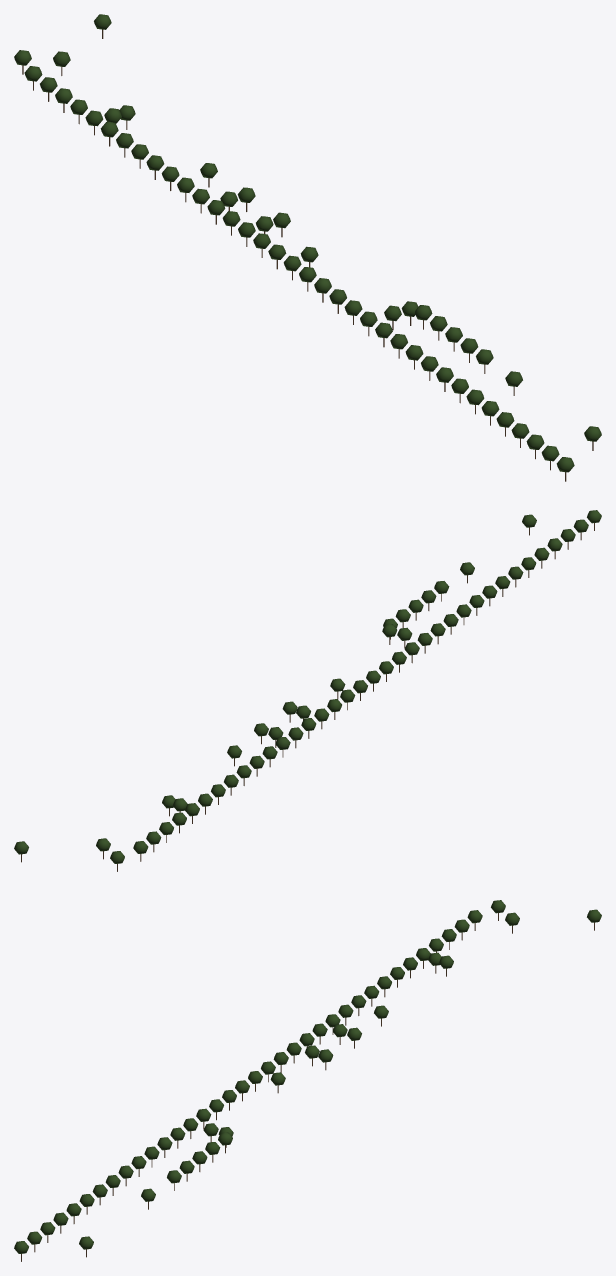
The model's file is props.glb.
3 views of the same model, one above another, from view 1: azimuth 30°, elevation 25°; view 2: azimuth 150°, elevation 25°; view 3: azimuth 330°, elevation 25° (orthographic). The views are drawn at different scales.
Visible parts, largest first — view 1: T_W3_N3_props; view 2: T_W3_N3_props; view 3: T_W3_N3_props.
Part boxes in pixels (x1,y1,x2,y2): T_W3_N3_props: (14,14,601,481); T_W3_N3_props: (14,510,601,871); T_W3_N3_props: (14,900,601,1261).
Bounding box in the file's own units: 38.01 × 7.2 × 311.
